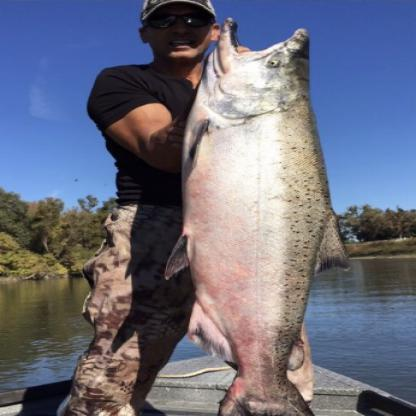fish: (162, 15, 350, 415)
